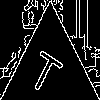T: (25, 42, 68, 97)
